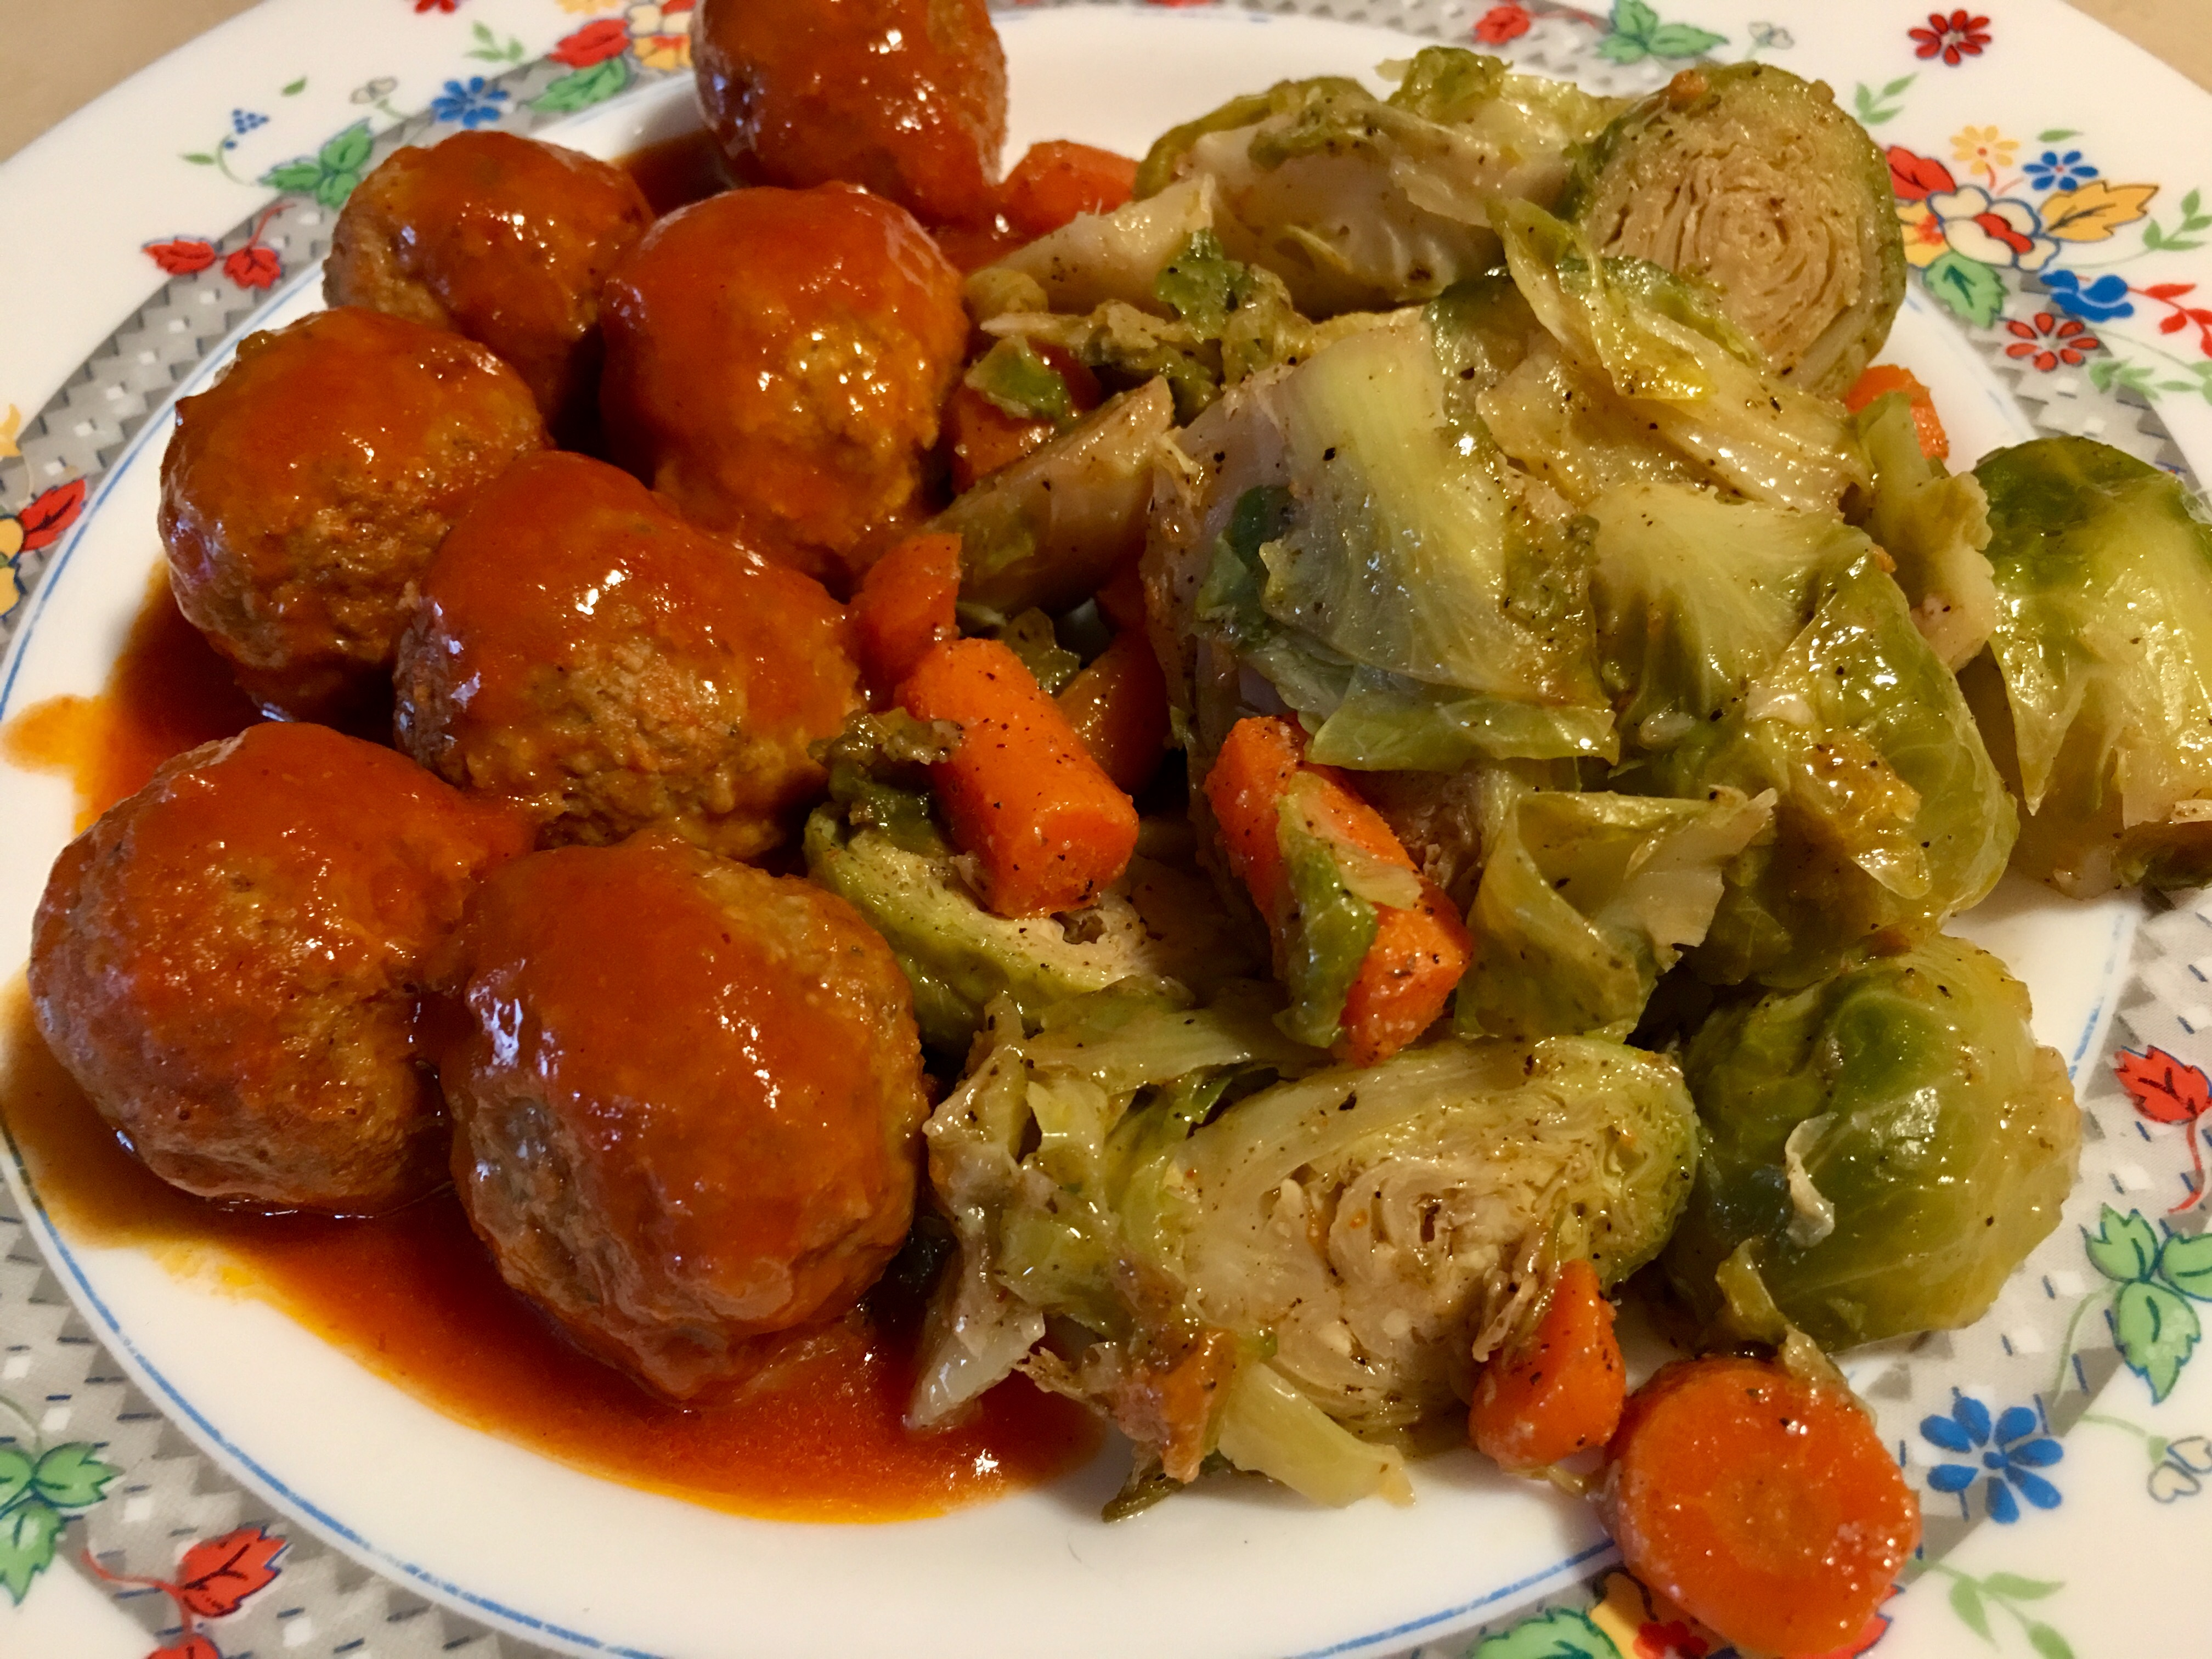chopped lettuce: (1191, 98, 2038, 1342)
meatballs: (87, 762, 911, 1371), (282, 164, 862, 781)
